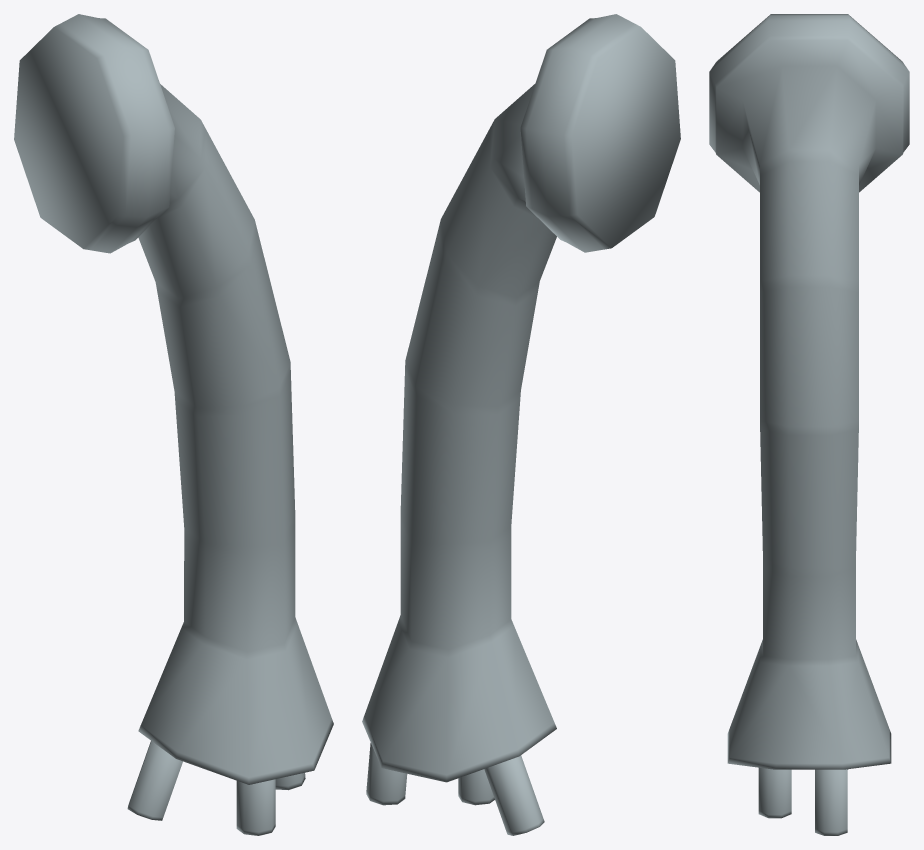
The model's file is brazoIzquierdo.obj.
The picture shows the model from 3 angles, left to right: view 1: azimuth 30°, elevation 25°; view 2: azimuth 150°, elevation 25°; view 3: azimuth 270°, elevation 25°; orthographic projection. The views are drawn at different scales.
Visible parts, largest first — view 1: Object, Object002; view 2: Object, Object002; view 3: Object, Object002.
Part boxes in pixels (x1,y1,x2,y2): Object: (14, 14, 333, 784); Object002: (127, 741, 305, 835); Object: (362, 14, 680, 782); Object002: (366, 743, 544, 835); Object: (709, 14, 909, 769); Object002: (758, 767, 847, 835).
Size of the model in its own units: 1.13 by 3.48 by 0.8653.
